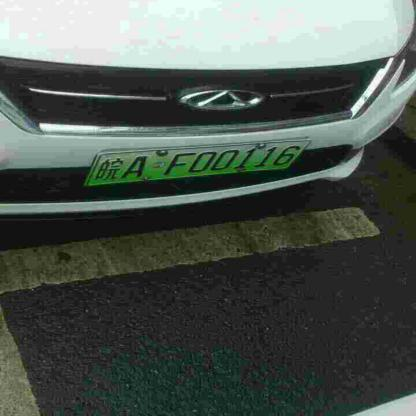lp: (82, 141, 309, 185)
